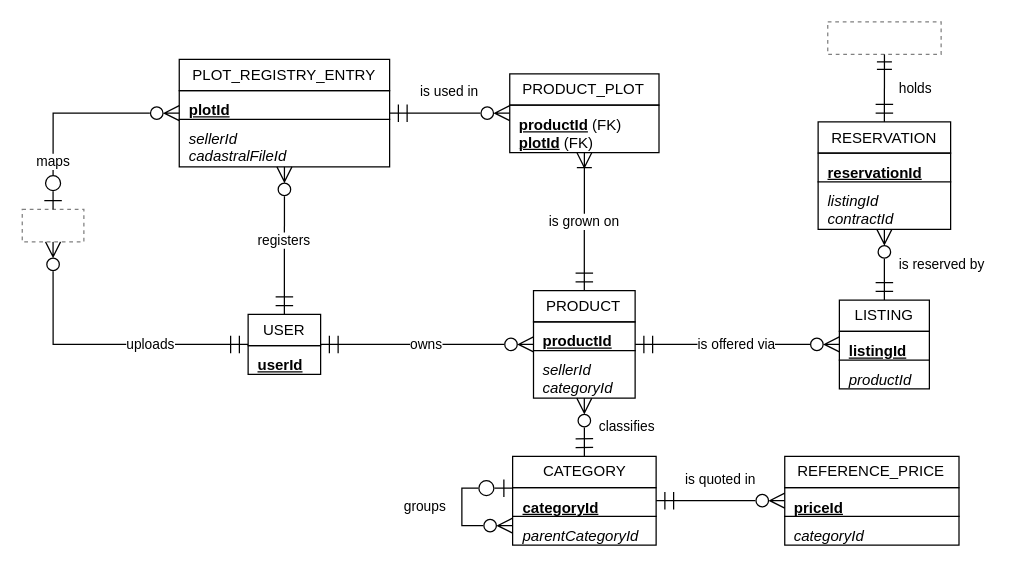
Some shapes in this 1009 by 568 pixel diagram are drawn without their labels. Each missing label, with the centre of its shape:
CONTRACT: [883,37]
FILE: [52,225]
